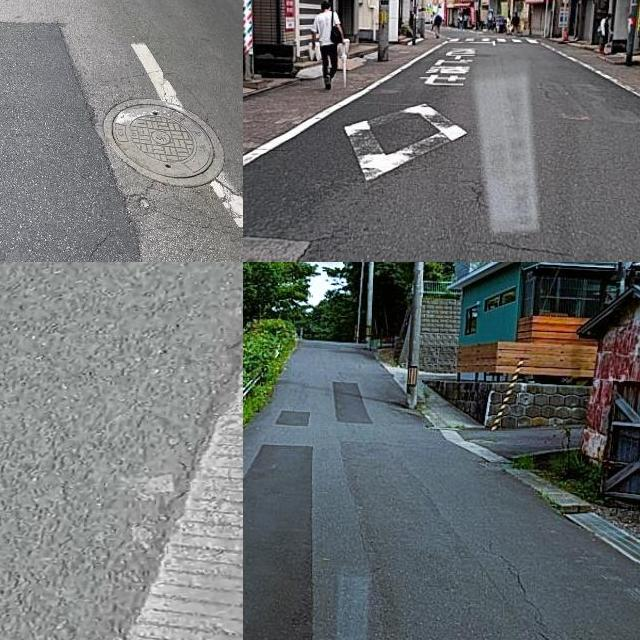Sambungan: (0, 23, 146, 262), (243, 443, 313, 640), (330, 378, 370, 423), (281, 407, 312, 429)
